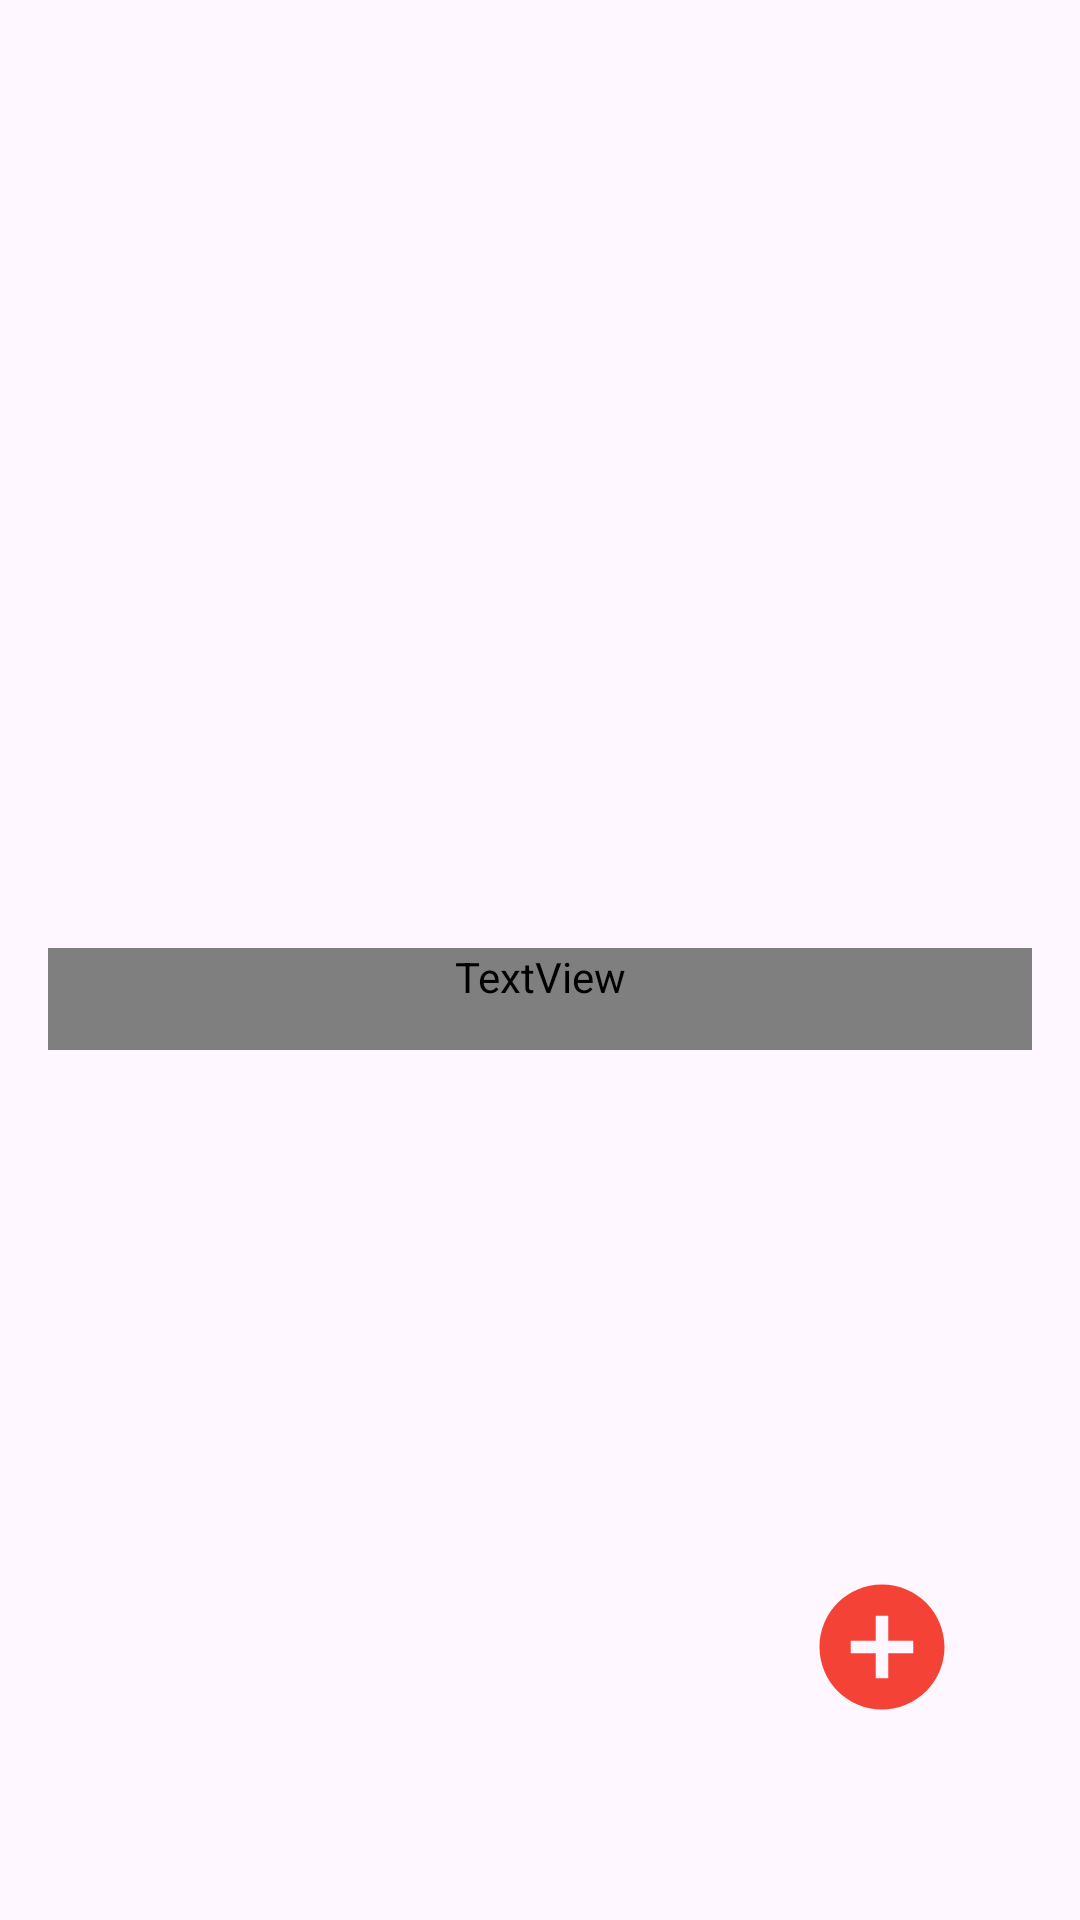

Where icons sit on this 1080x1920 app screen, as bbox(x1, y1, x2, y2):
add: bbox(819, 1584, 945, 1710)
